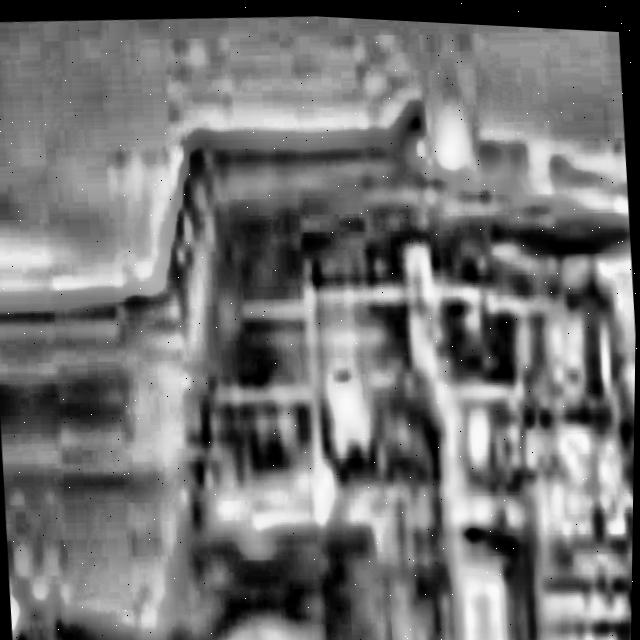dump_truck: (0, 42, 640, 640)
